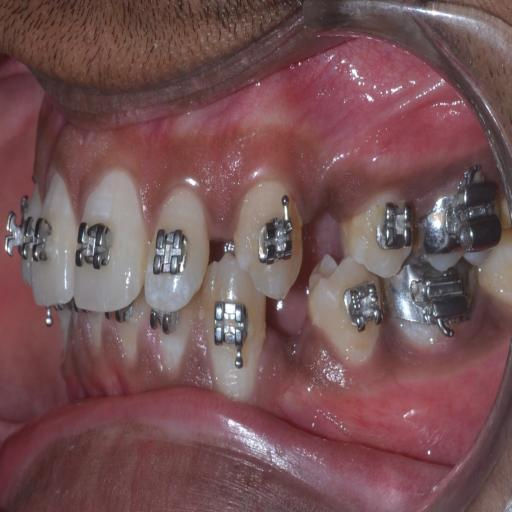correct_brace: (341, 193, 419, 278), (254, 193, 295, 268), (76, 213, 114, 272), (152, 225, 190, 281)
incorrect_brace: (149, 177, 210, 311), (375, 202, 414, 252)
